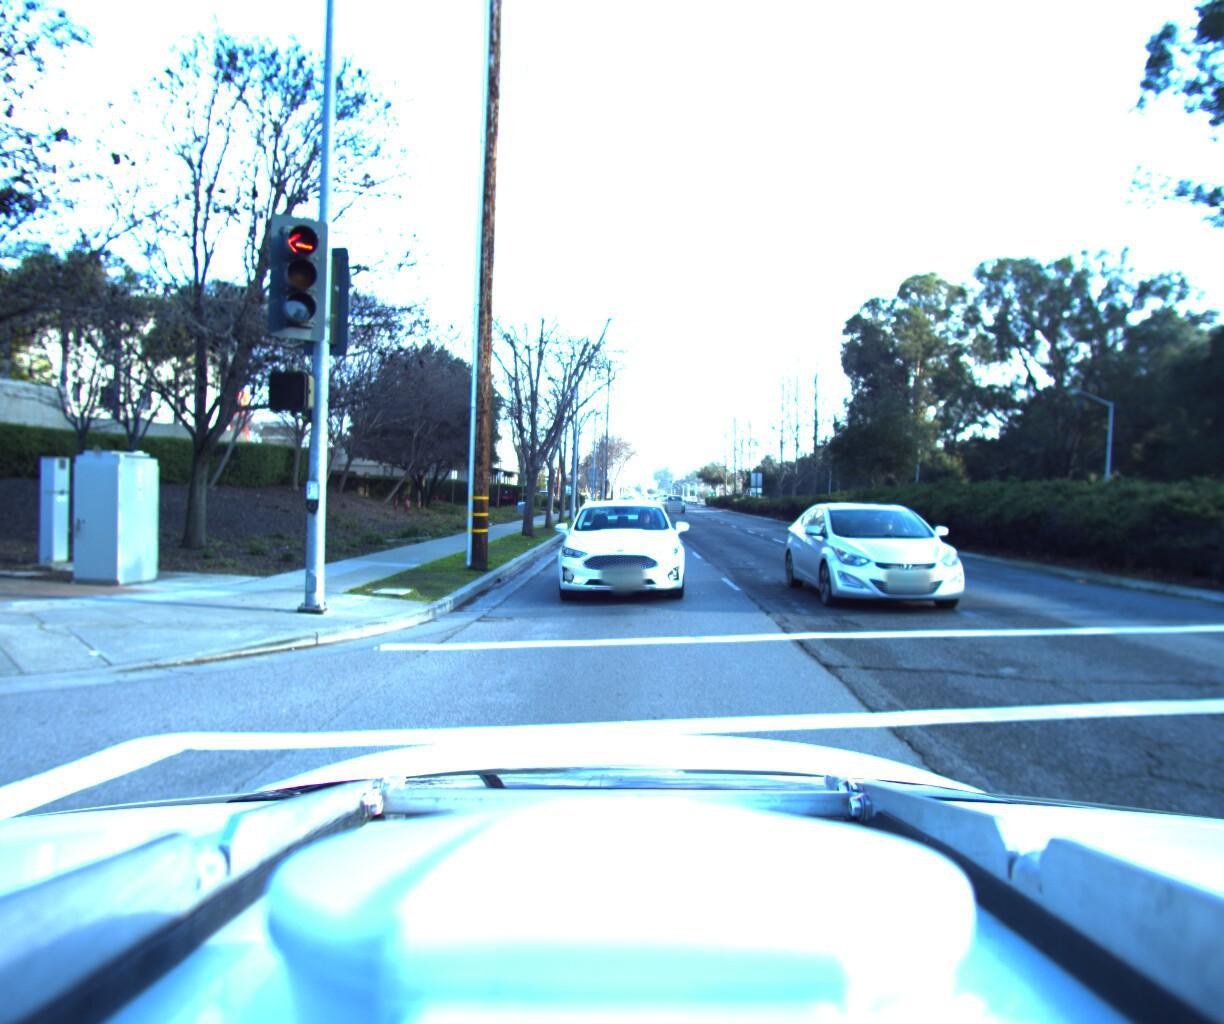car: (795, 490, 1041, 639), (549, 488, 682, 607), (662, 491, 685, 511)
